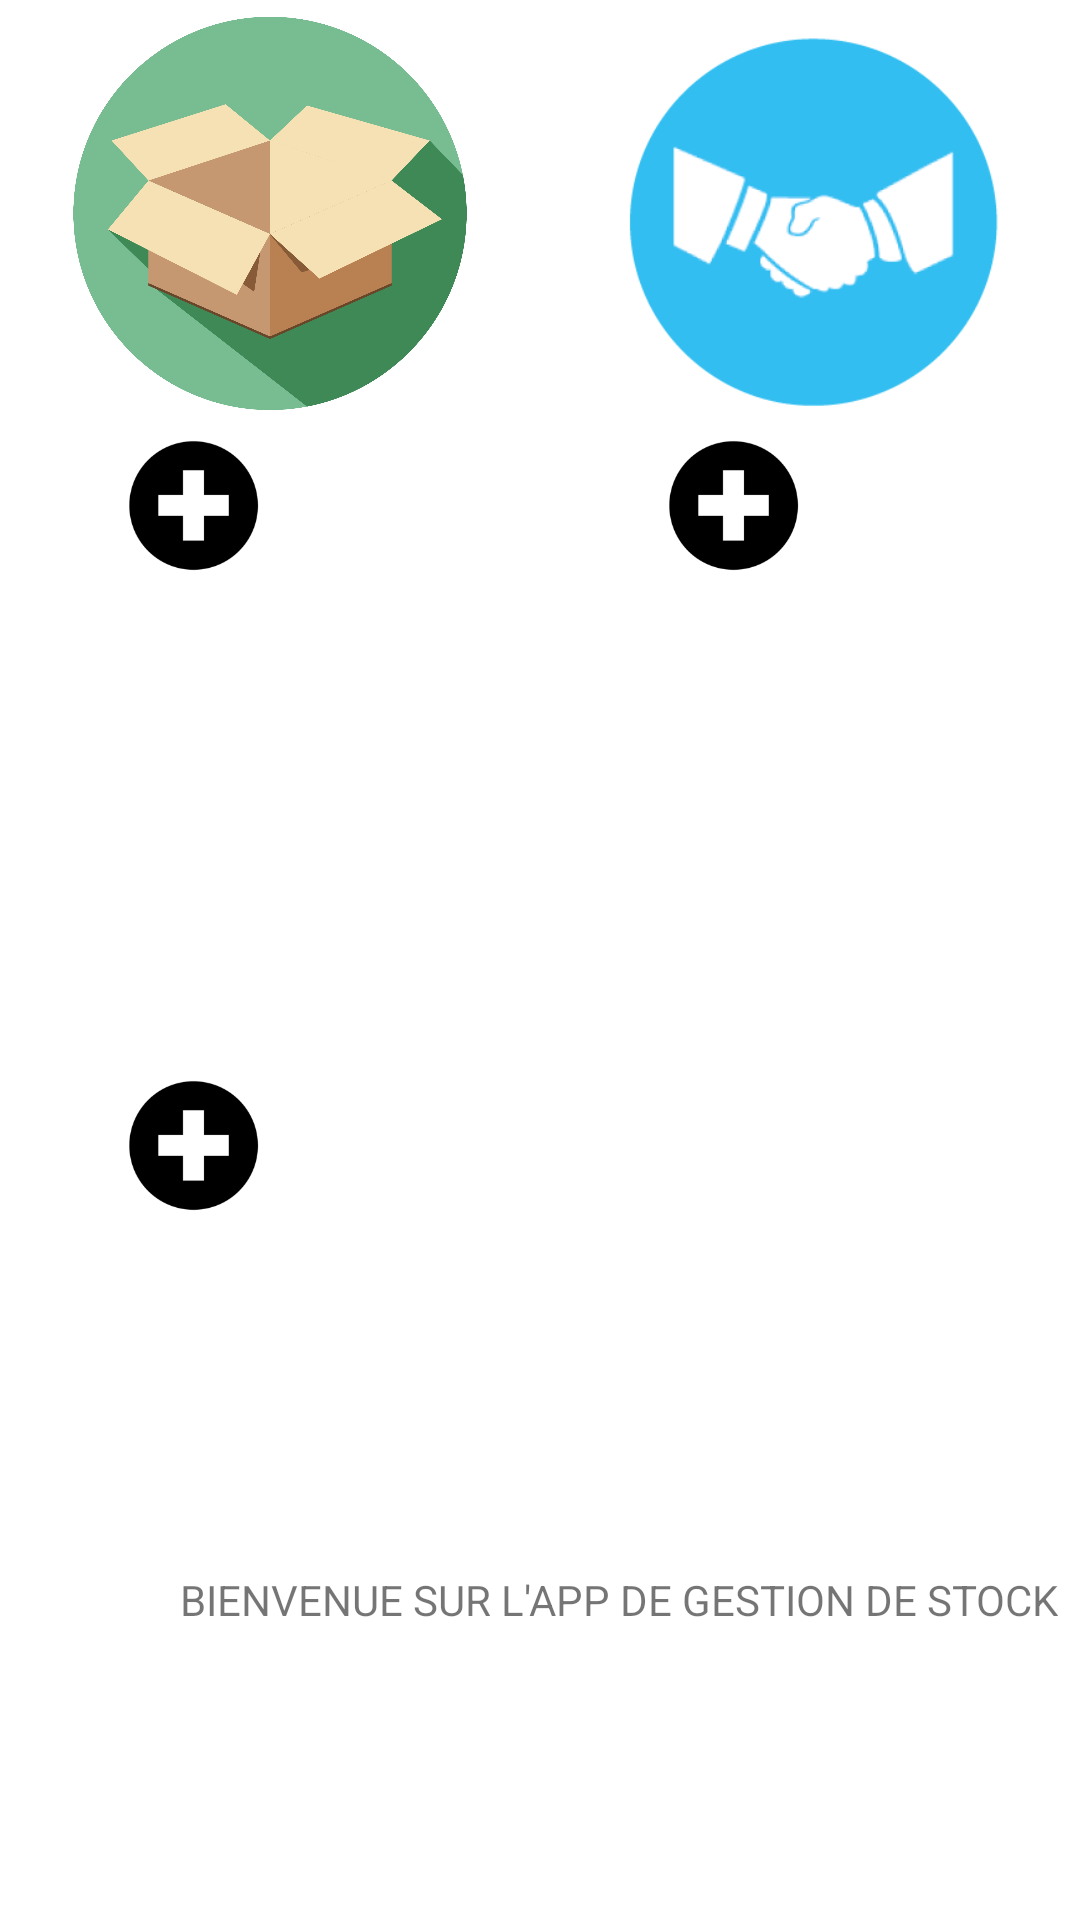

Icons on this 1080 × 1920 Android screen, each with the point to tap as point (x, y):
ajout: point (193, 505), point (733, 505), point (193, 1145)
